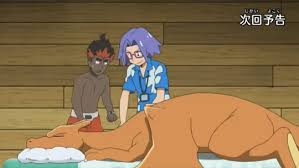charizard: (26, 93, 296, 167)
